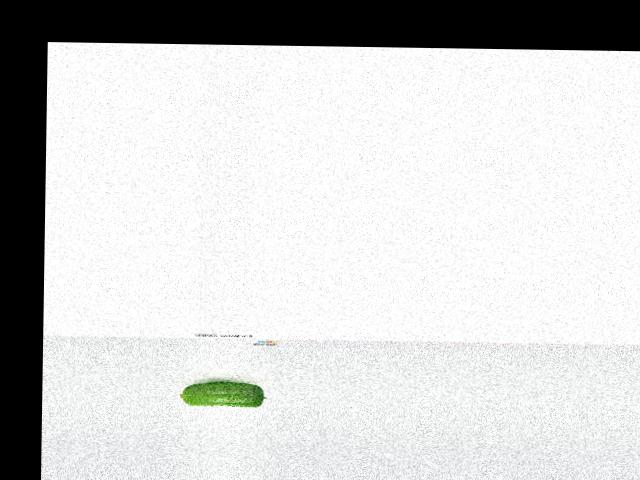cucumber: (178, 381, 267, 407)
